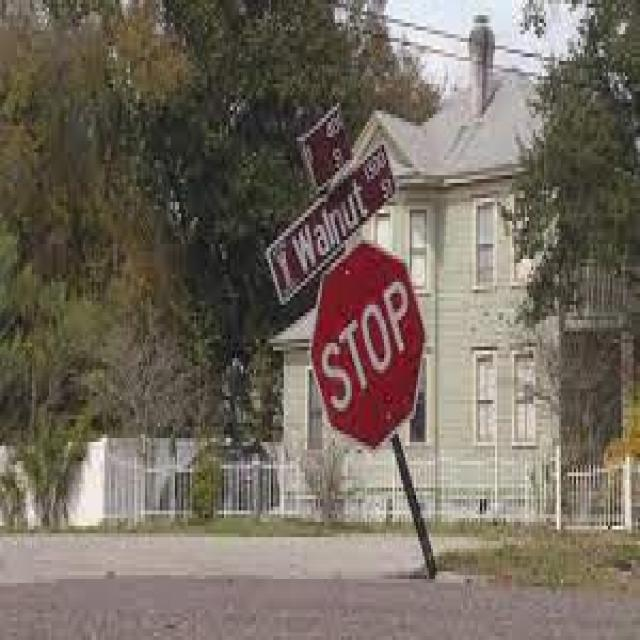stop-sign: (313, 284, 439, 424)
